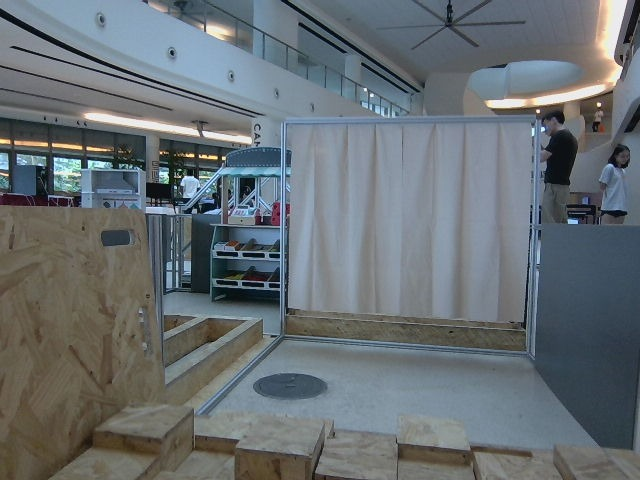curtain: (288, 113, 531, 319)
